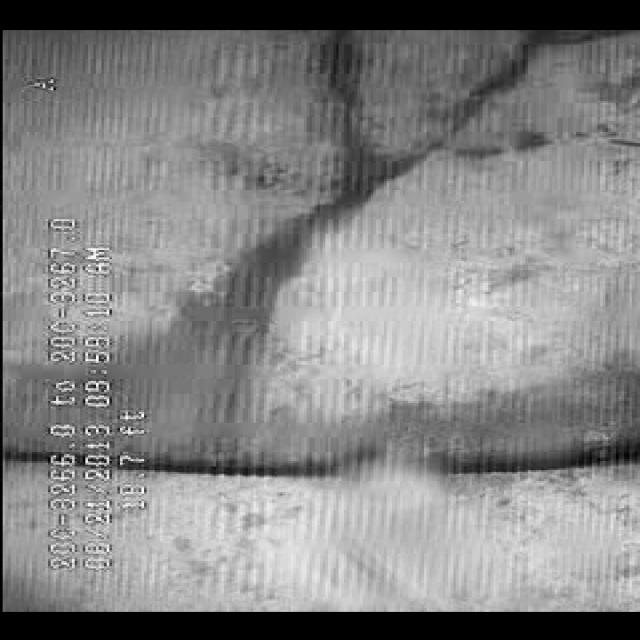Fracture: (118, 60, 530, 339)
